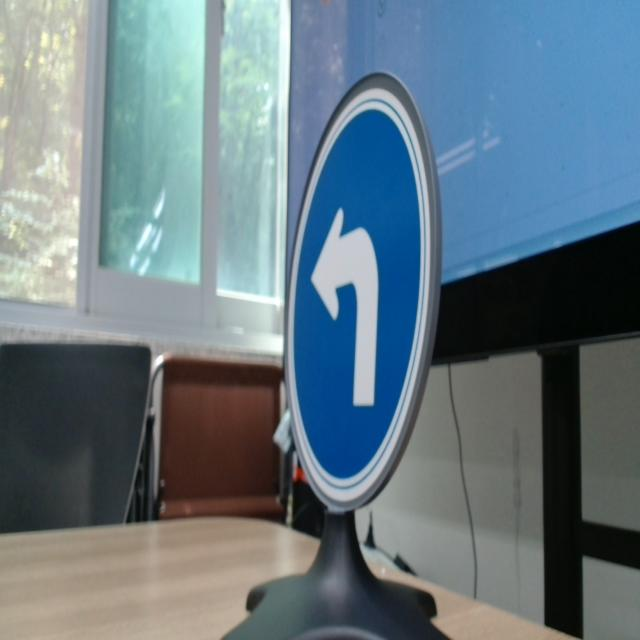left_direction: (278, 72, 436, 508)
